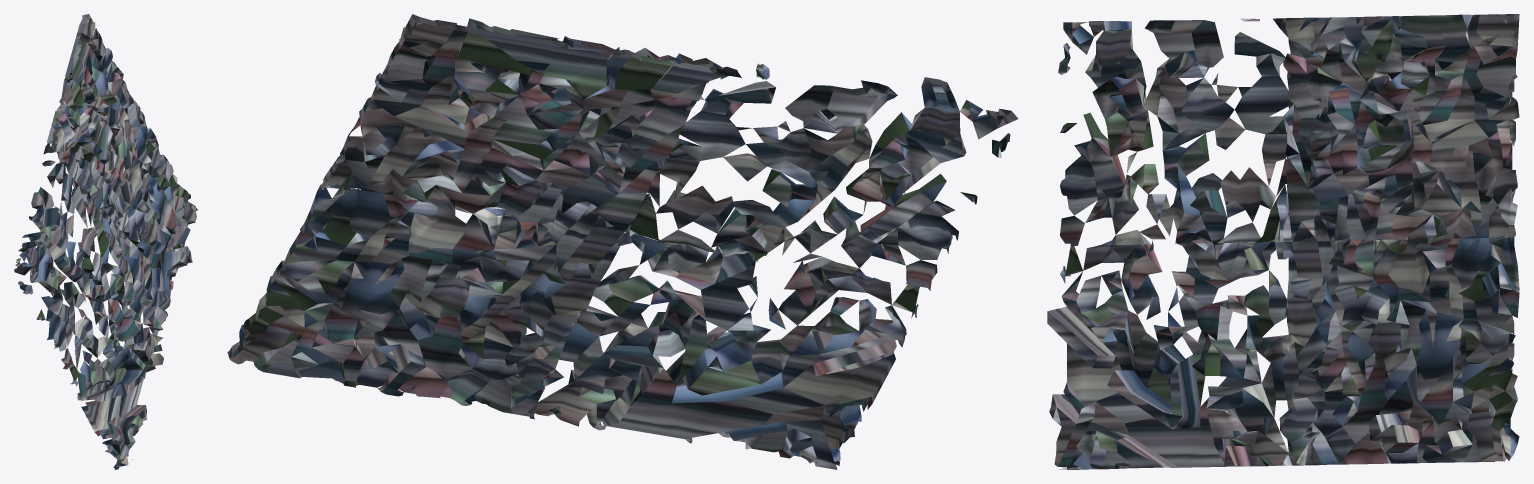
3 renders of one model, left to right at view 1: azimuth 30°, elevation 25°; view 2: azimuth 150°, elevation 25°; view 3: azimuth 270°, elevation 25°, orthographic. The views are drawn at different scales.
Visible parts, largest first — view 1: node_3043627270436052_mesh0, node_3043627270436052_mesh1; view 2: node_3043627270436052_mesh0, node_3043627270436052_mesh1; view 3: node_3043627270436052_mesh0, node_3043627270436052_mesh1.
Boxes of the visible parts, x1,y1,x2,y2 form: node_3043627270436052_mesh0: (14, 14, 198, 469); node_3043627270436052_mesh1: (19, 38, 179, 454); node_3043627270436052_mesh0: (227, 14, 1018, 469); node_3043627270436052_mesh1: (283, 18, 999, 460); node_3043627270436052_mesh0: (1047, 14, 1519, 469); node_3043627270436052_mesh1: (1060, 14, 1513, 469).
Bounding box in the file's own units: 586 × 584 × 461.
2 materials, 2 textured.
